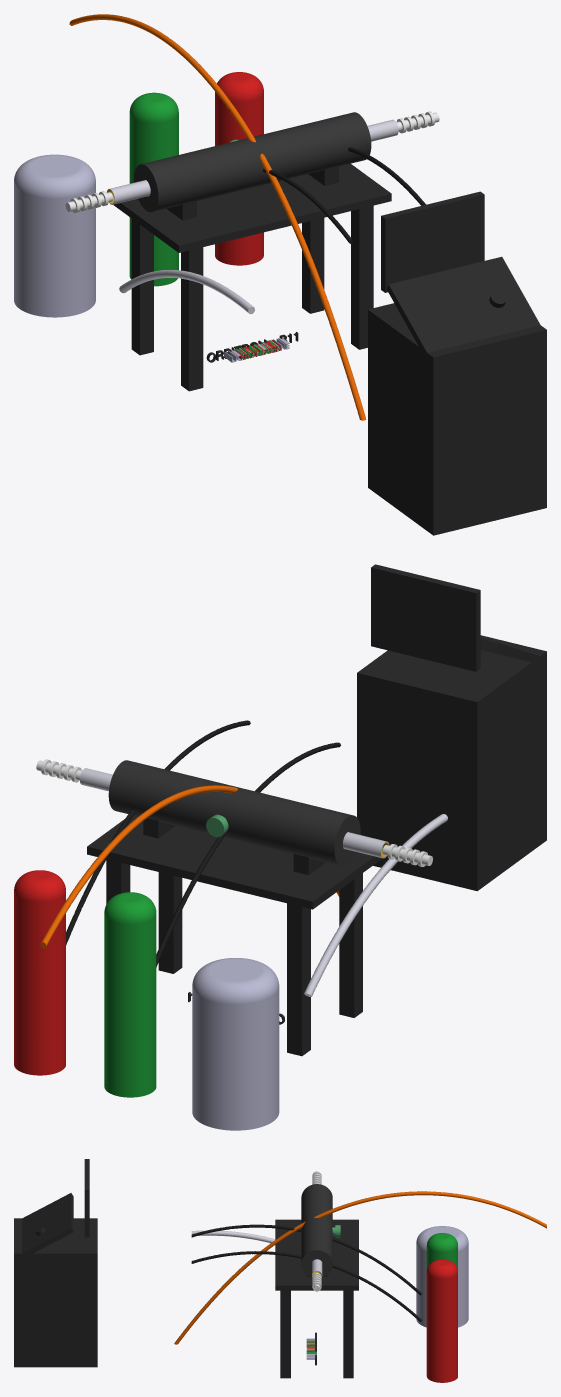
File: orbitron_lab_v3.gltf
3 views of the same model, one above another, from view 1: azimuth 30°, elevation 25°; view 2: azimuth 150°, elevation 25°; view 3: azimuth 270°, elevation 25° (orthographic). The views are drawn at different scales.
Parts seen in each view (by area): view 1: Operator_Console, Optics_Table, Tank_Cryo_Methane, Magnet, Tank_Diborane, Tank_Hydrogen, High_Voltage_Umbilical, Cryo_Methane_Piping, Insulators, Anode, Fuel_Gas_Lines; view 2: Operator_Console, Optics_Table, Tank_Cryo_Methane, Magnet, Tank_Diborane, Tank_Hydrogen, Fuel_Gas_Lines, Cryo_Methane_Piping, High_Voltage_Umbilical, Insulators, Anode; view 3: Operator_Console, Optics_Table, Tank_Hydrogen, Magnet, Tank_Cryo_Methane, High_Voltage_Umbilical, Fuel_Gas_Lines, Tank_Diborane, Cryo_Methane_Piping, Insulators.
Boxes of the visible parts, box(x1,y1,x2,y2) form: Operator_Console: box(368, 191, 546, 535); Optics_Table: box(113, 163, 391, 391); Tank_Cryo_Methane: box(14, 154, 289, 362); Magnet: box(134, 112, 371, 212); Tank_Diborane: box(129, 92, 278, 359); Tank_Hydrogen: box(215, 72, 280, 360); High_Voltage_Umbilical: box(69, 14, 365, 420); Cryo_Methane_Piping: box(119, 269, 254, 314); Insulators: box(65, 111, 439, 212); Anode: box(106, 119, 398, 204); Fuel_Gas_Lines: box(263, 147, 425, 243); Operator_Console: box(357, 564, 546, 891); Optics_Table: box(87, 815, 382, 1056); Tank_Cryo_Methane: box(192, 958, 279, 1130); Magnet: box(108, 760, 360, 866); Tank_Diborane: box(104, 892, 156, 1097); Tank_Hydrogen: box(14, 870, 65, 1075); Fuel_Gas_Lines: box(66, 720, 340, 967); Cryo_Methane_Piping: box(304, 814, 447, 996); High_Voltage_Umbilical: box(40, 785, 339, 948); Insulators: box(36, 759, 432, 866); Anode: box(79, 768, 389, 858); Operator_Console: box(14, 1159, 97, 1367); Optics_Table: box(275, 1219, 358, 1378); Tank_Hydrogen: box(306, 1259, 457, 1382); Magnet: box(301, 1184, 332, 1277); Tank_Cryo_Methane: box(306, 1226, 468, 1359); High_Voltage_Umbilical: box(174, 1191, 546, 1344); Fuel_Gas_Lines: box(191, 1224, 422, 1321); Tank_Diborane: box(306, 1233, 457, 1352); Cryo_Methane_Piping: box(191, 1230, 275, 1243); Insulators: box(312, 1171, 321, 1291).
Bounding box in the file's own units: 2.6 × 1.89 × 5.1.
